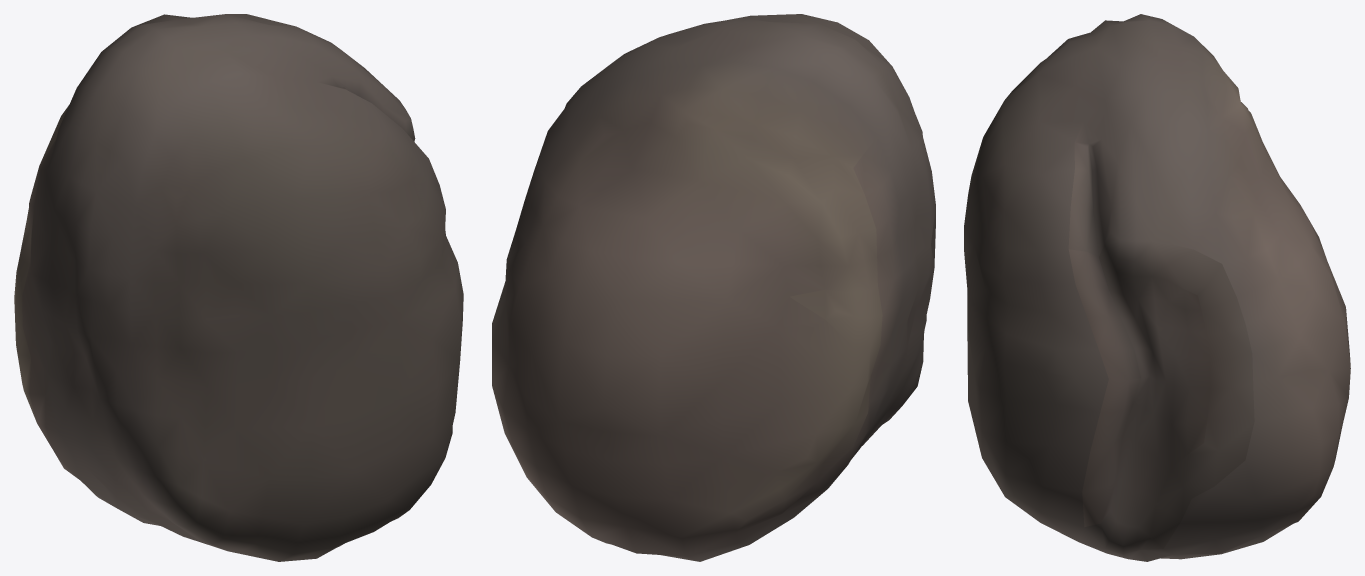
File: RockLarge.003.glb
3 renders of one model, left to right at view 1: azimuth 30°, elevation 25°; view 2: azimuth 150°, elevation 25°; view 3: azimuth 270°, elevation 25°, orthographic. The views are drawn at different scales.
Visible parts, largest first — view 1: RockLarge.003; view 2: RockLarge.003; view 3: RockLarge.003.
Boxes of the visible parts, x1,y1,x2,y2 form: RockLarge.003: (14, 14, 463, 561); RockLarge.003: (492, 14, 935, 561); RockLarge.003: (964, 14, 1350, 561).
Size of the model in its own units: 756 by 1021 by 750.
